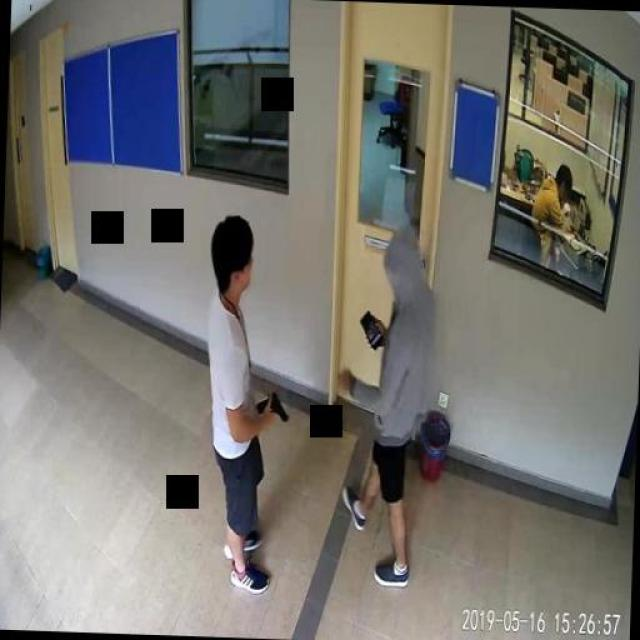gun: (254, 388, 288, 422)
